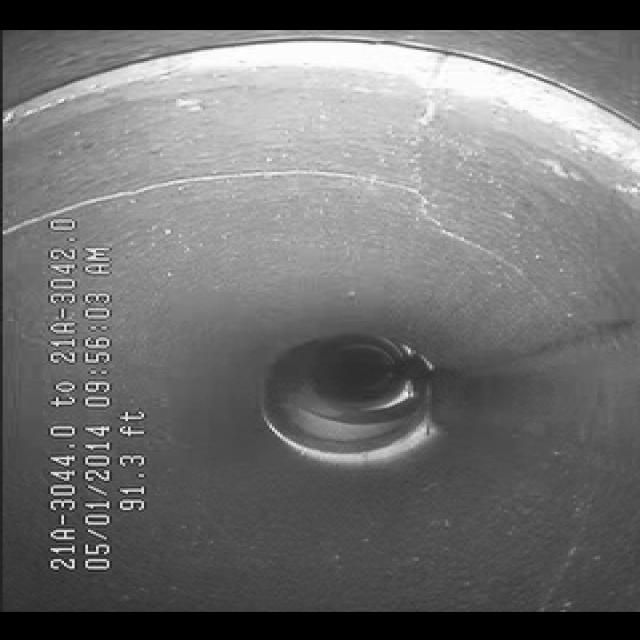Crack: (380, 84, 520, 266), (73, 142, 359, 217)
